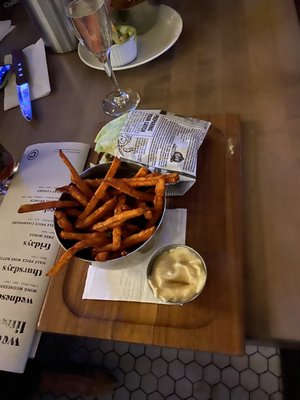sushi: (43, 150, 168, 272)
